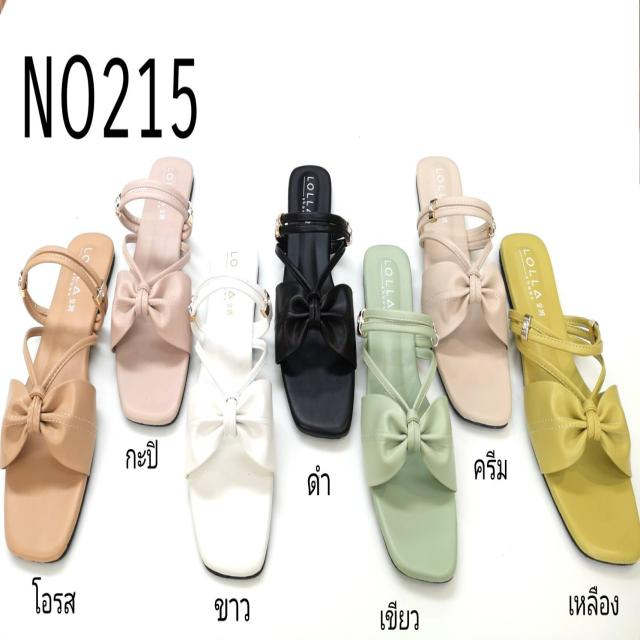black: (268, 136, 358, 446)
cream: (418, 141, 509, 442)
green: (363, 240, 461, 586)
kapi: (112, 147, 197, 442)
orot: (0, 194, 112, 596)
white: (185, 222, 265, 587)
yellow: (497, 221, 640, 571)
